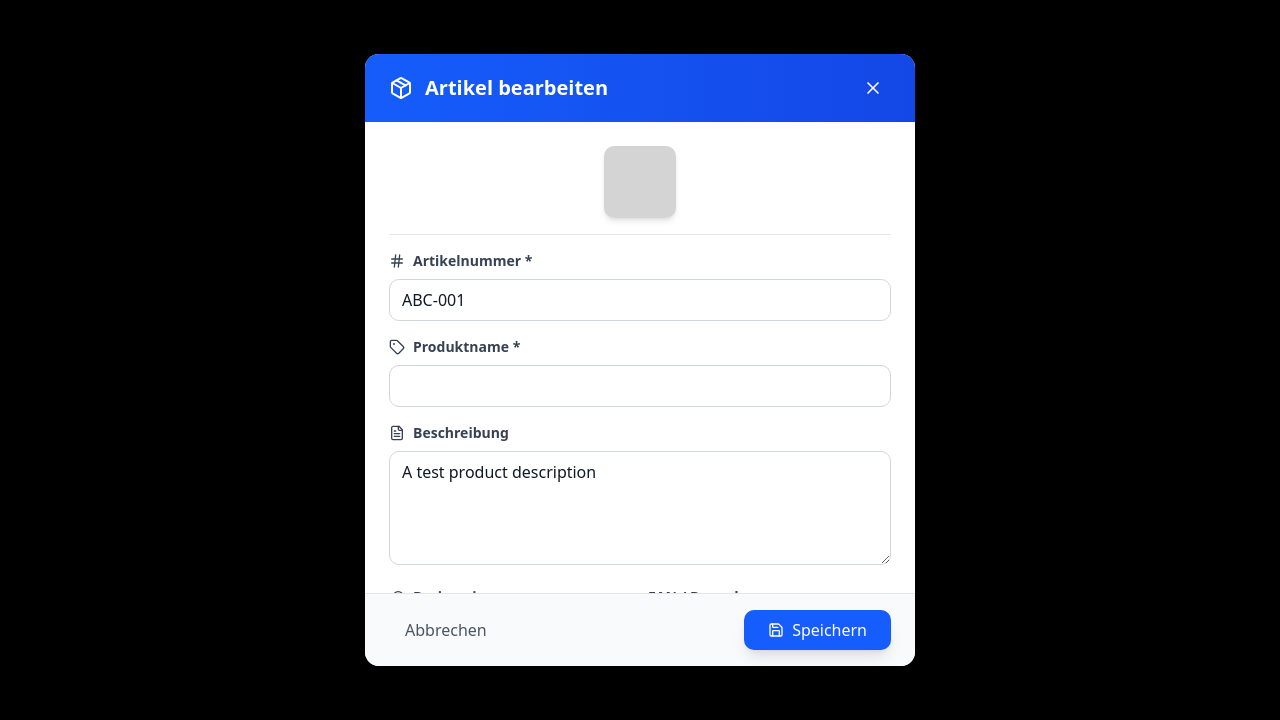
Test: ArticleEditModal › form validation › shows error when product name is empty
Click the button "Speichern" at [818, 630], box 744,610 -> 891,650
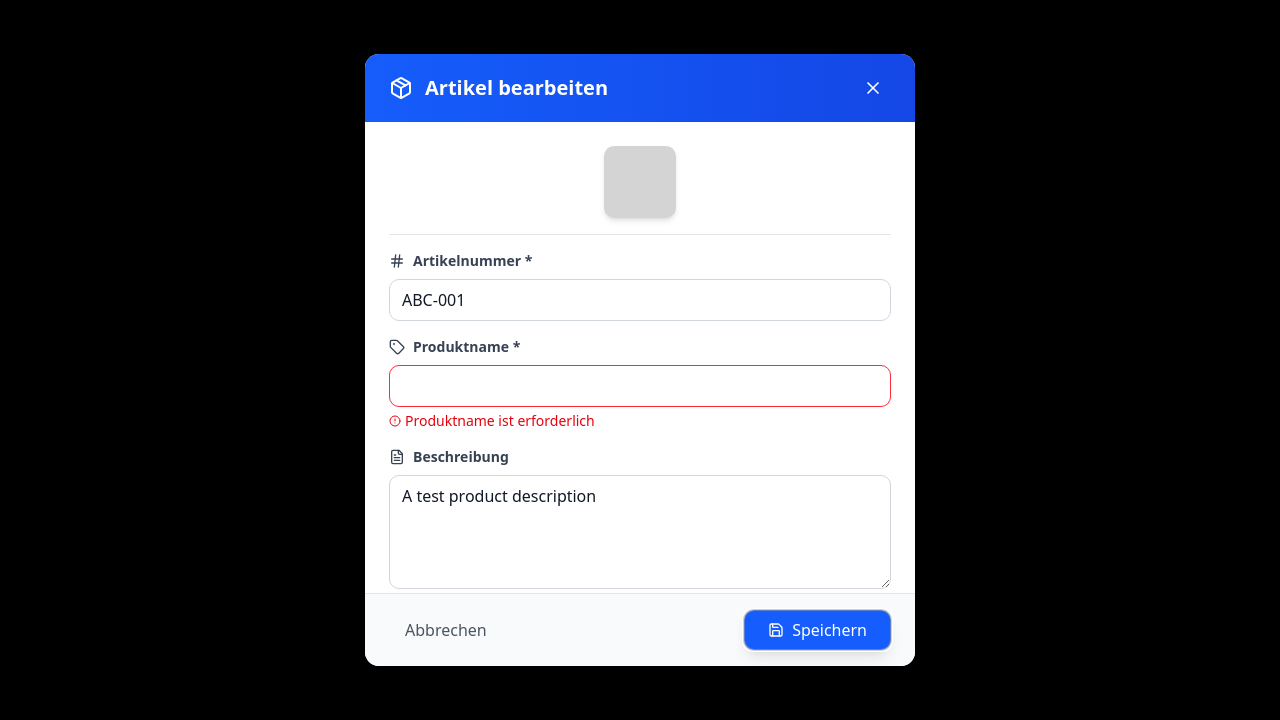
Check: the text "Produktname ist erforderlich" is shown, box 389,411 -> 595,430
